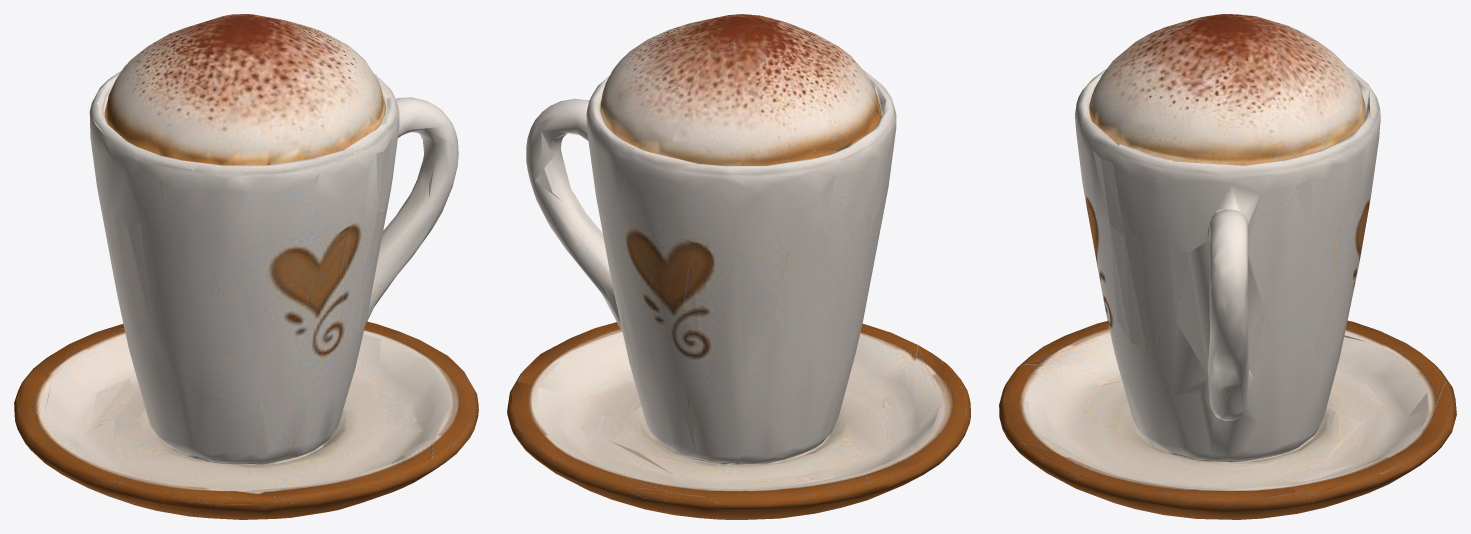
The model's file is cup_cappuccino.gltf.
3 renders of one model, left to right at view 1: azimuth 30°, elevation 25°; view 2: azimuth 150°, elevation 25°; view 3: azimuth 270°, elevation 25°, orthographic.
Parts seen in each view (by area): view 1: cup_cappuccino; view 2: cup_cappuccino; view 3: cup_cappuccino.
Part boxes in pixels (bbox=[...]): cup_cappuccino: bbox=[14, 14, 478, 519]; cup_cappuccino: bbox=[507, 14, 970, 519]; cup_cappuccino: bbox=[999, 14, 1456, 519].
Size of the model in its own units: 0.8185 by 0.8 by 0.7908.
1 material, 1 textured.
